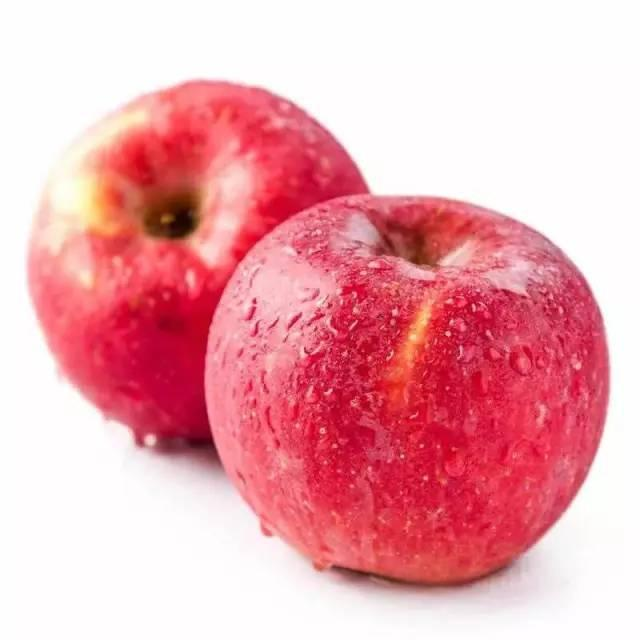apple: (206, 190, 605, 587), (24, 79, 378, 453)
